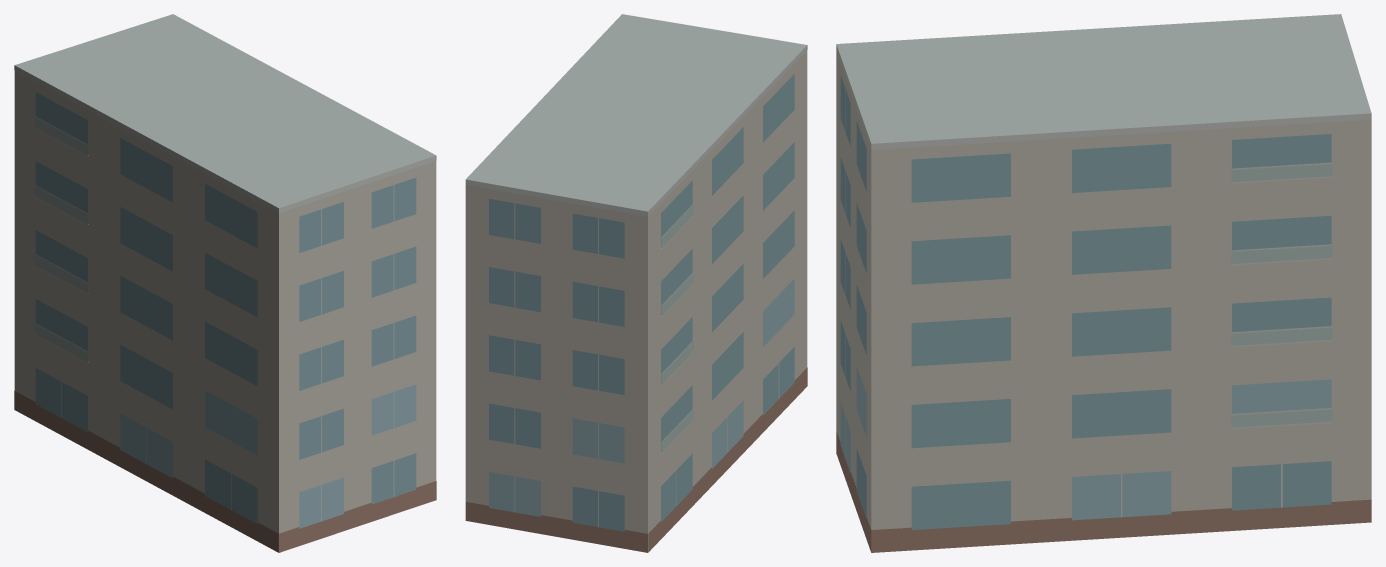
The model's file is survey-upis-32579254.glb.
3 renders of one model, left to right at view 1: azimuth 30°, elevation 25°; view 2: azimuth 150°, elevation 25°; view 3: azimuth 270°, elevation 25°, orthographic. The views are drawn at different scales.
Visible parts, largest first — view 1: survey-upis-32579254.tmp; view 2: survey-upis-32579254.tmp; view 3: survey-upis-32579254.tmp.
Boxes of the visible parts, x1,y1,x2,y2 form: survey-upis-32579254.tmp: [14, 14, 436, 552]; survey-upis-32579254.tmp: [465, 14, 807, 552]; survey-upis-32579254.tmp: [836, 14, 1371, 552].
Bounding box in the file's own units: 11.03 × 16.2 × 19.22.
